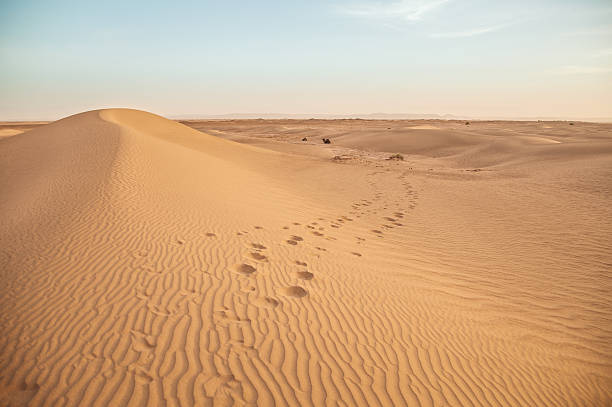human_foot_print: (228, 328, 262, 358), (127, 330, 158, 346), (147, 299, 175, 316), (224, 311, 246, 331), (249, 242, 267, 261), (373, 215, 401, 227), (254, 296, 279, 307), (282, 286, 307, 297), (234, 263, 255, 274), (311, 223, 323, 240), (250, 251, 267, 261), (286, 235, 303, 244), (295, 271, 313, 279), (251, 243, 265, 249), (329, 216, 341, 223), (295, 260, 306, 266), (205, 232, 216, 237), (351, 252, 361, 256)
